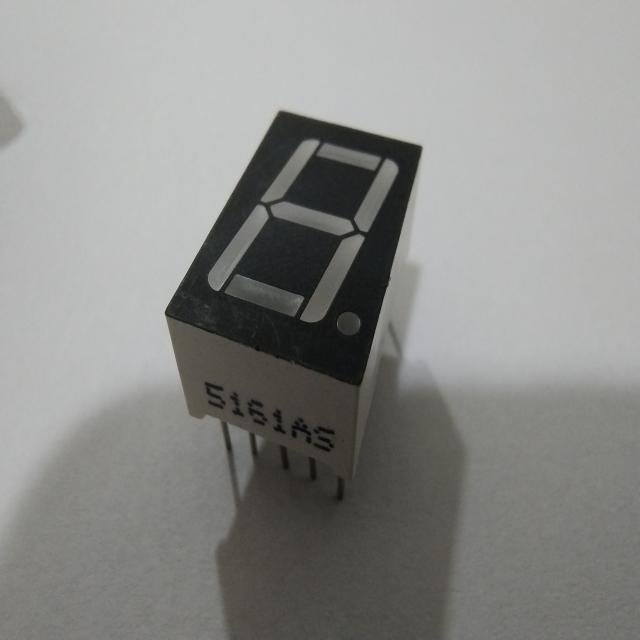7_segments: (150, 93, 433, 526)
